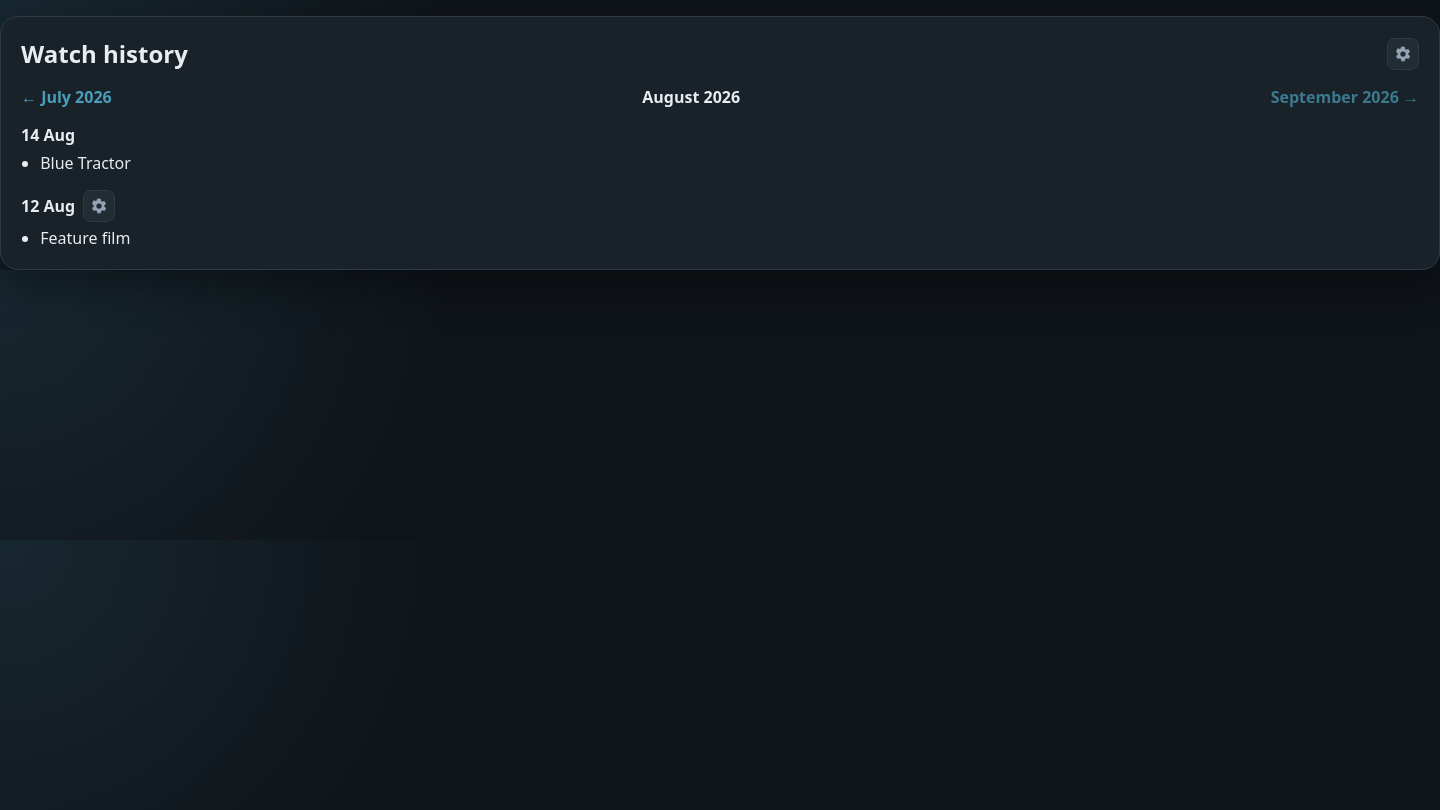
Test: WatchArchiveSection › closes only the top nested dialog on Escape
The image size is (1440, 810).
Expected: the list item "Feature film" is shown, [40, 227, 130, 249]
Click the button named "Correct watches for 2026-08-12".
click(99, 206)  # box [83, 190, 115, 222]
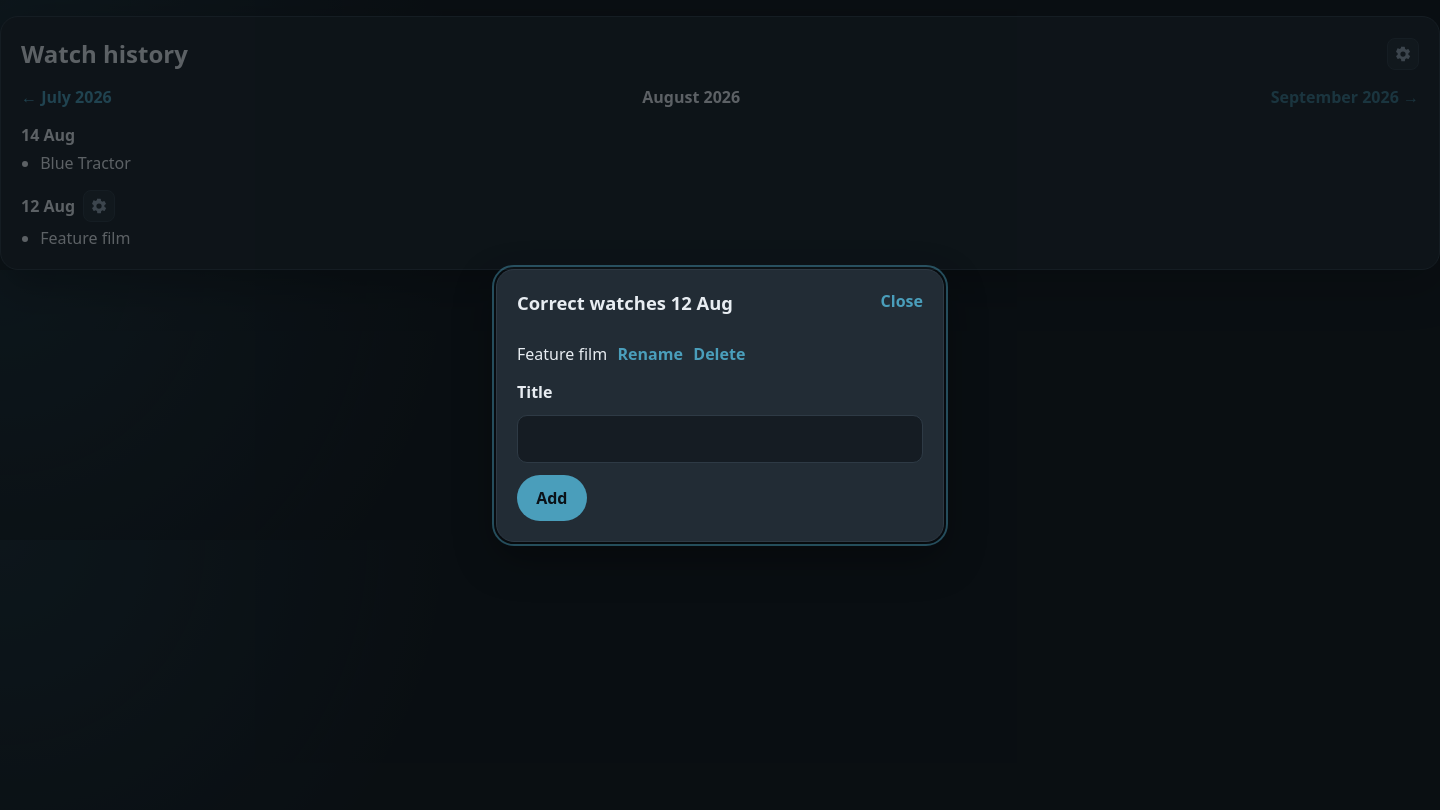
Click the button "Rename".
click(650, 354)  # box [618, 342, 683, 364]
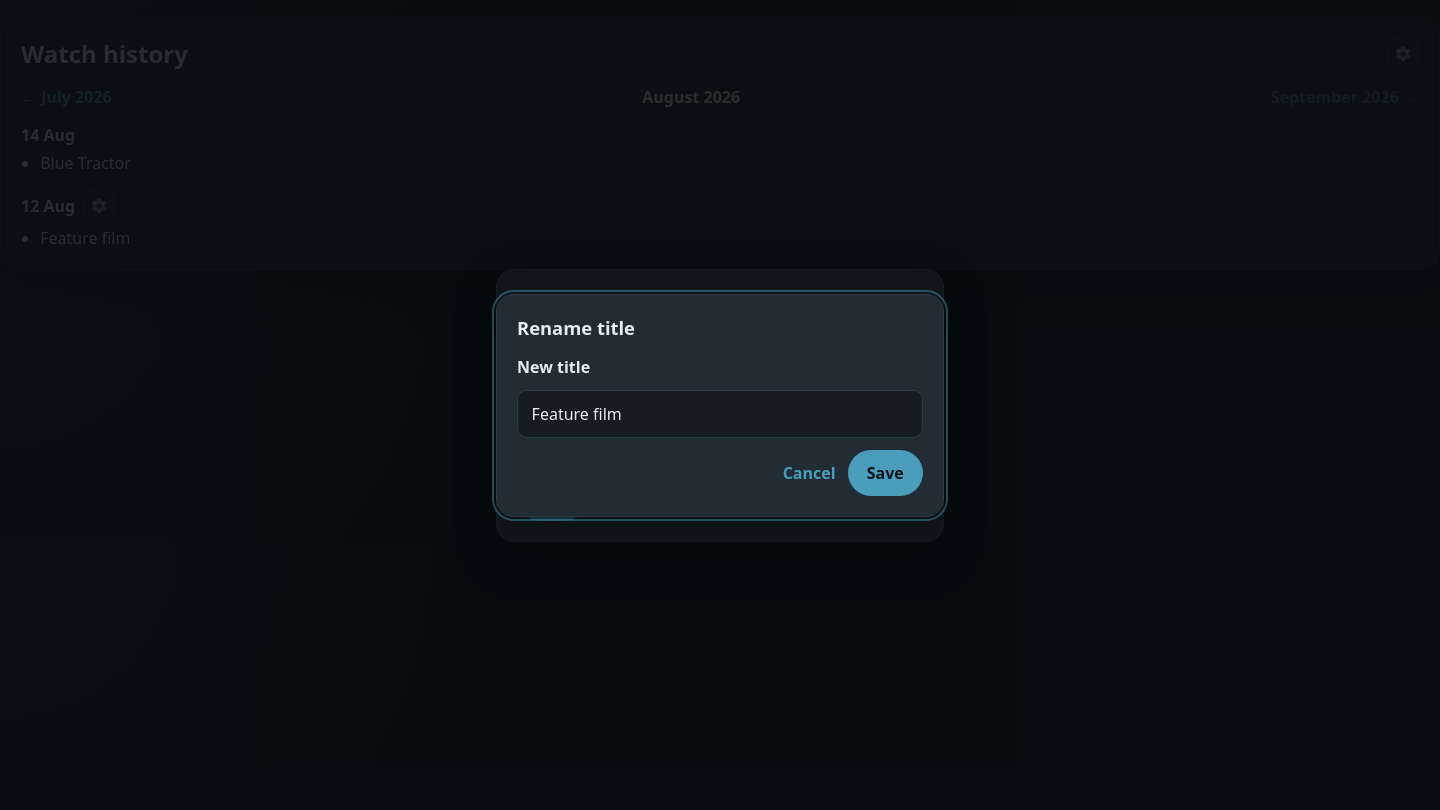
Result: the heading "Rename title" is shown at [517, 314, 635, 340]
Press Escape
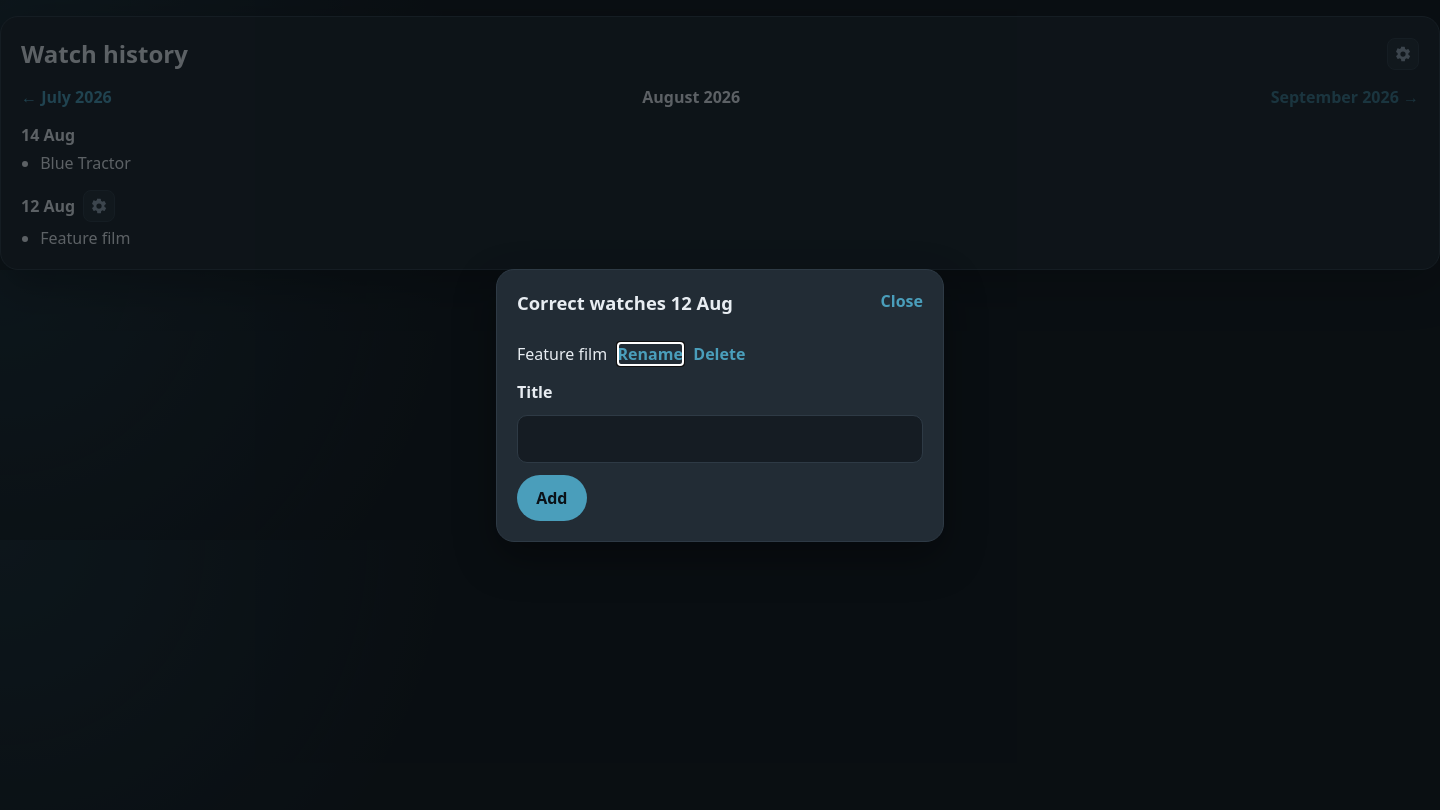
Result: the heading "Correct watches 12 Aug" is shown at [517, 290, 733, 314]
Result: the heading "Rename title" is gone
